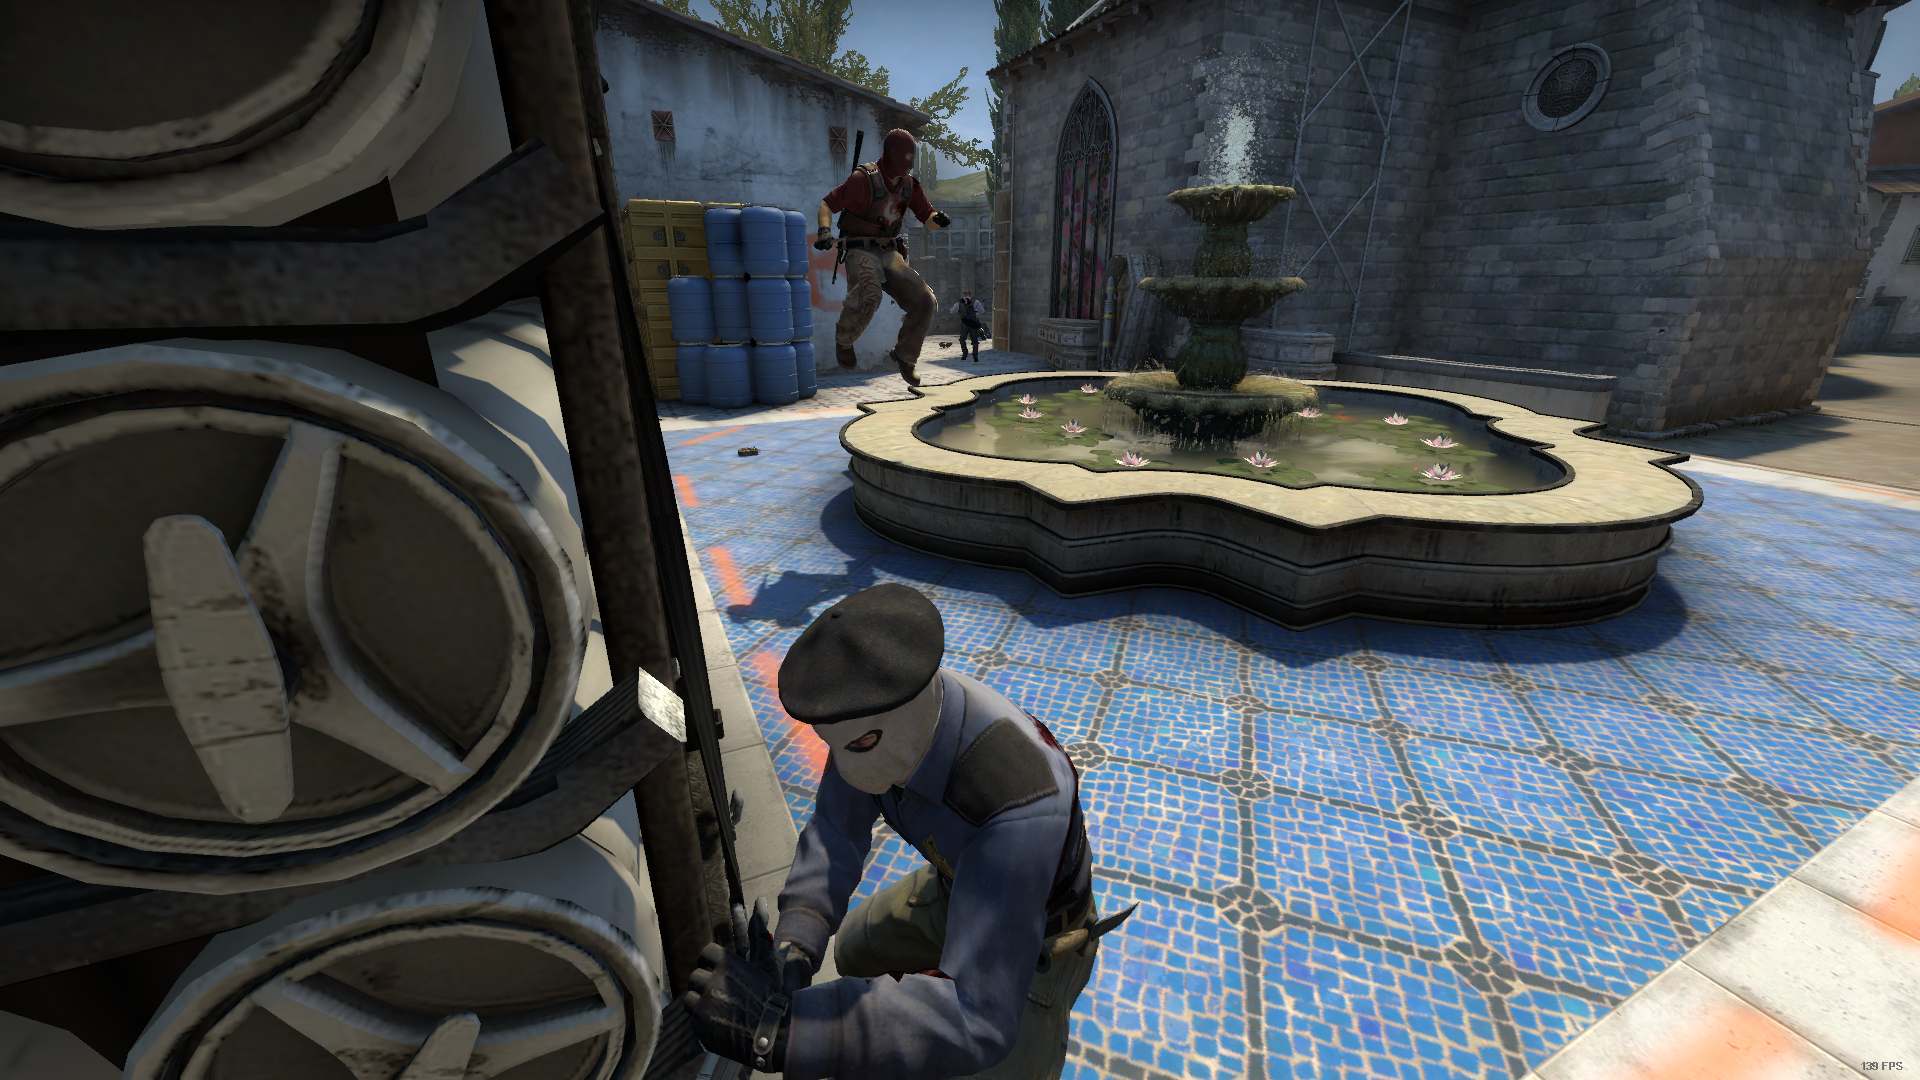t: (688, 582, 1155, 1080)
